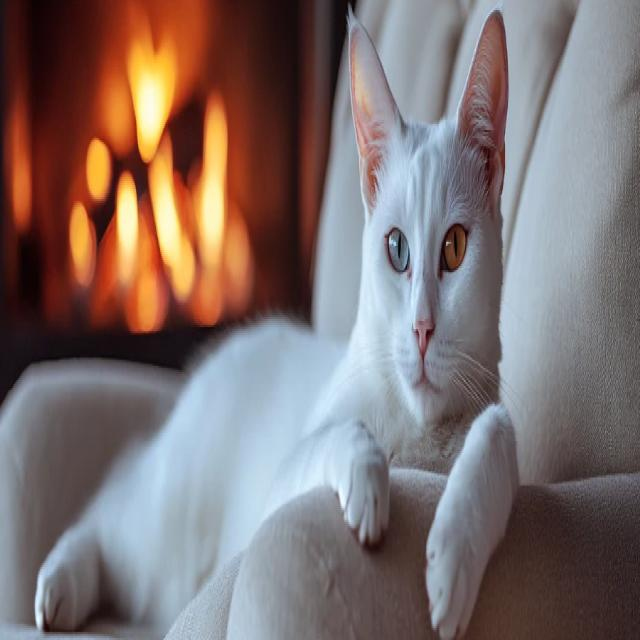Khao Manee: (29, 0, 521, 640)
